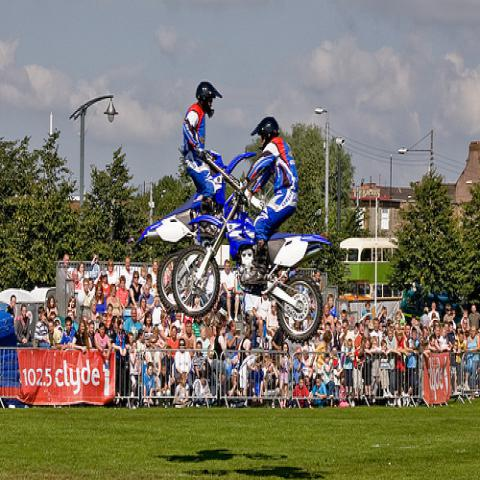bus: (340, 236, 395, 283)
motorcycle: (184, 191, 324, 341), (144, 153, 257, 316)
